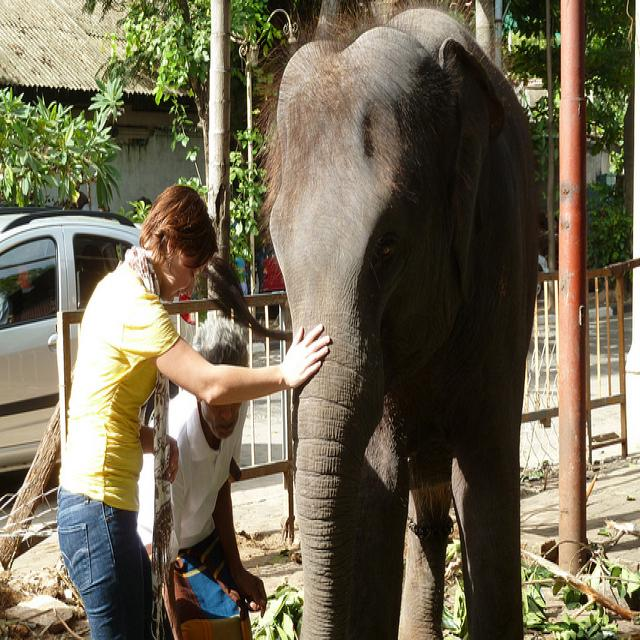Vehicle: (1, 206, 144, 469), (140, 292, 198, 426)
